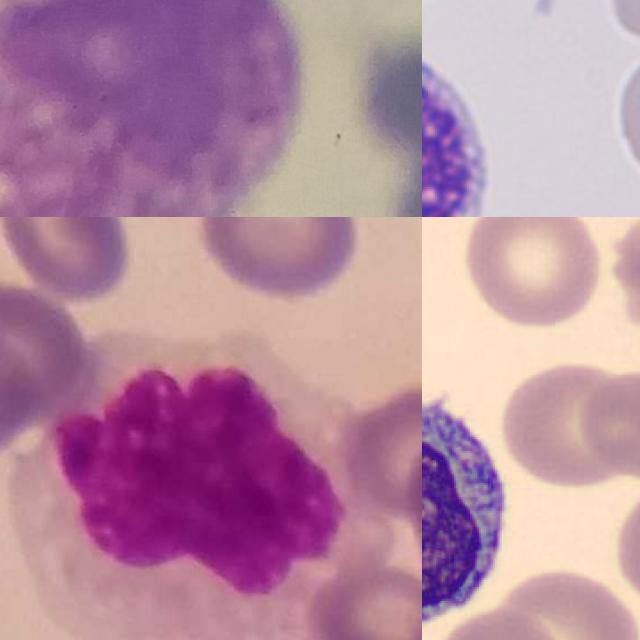Basophil: (0, 0, 301, 217)
Lymphocyte: (422, 377, 519, 639), (422, 22, 502, 217)
Monocyte: (24, 354, 385, 640)
RBC: (495, 356, 640, 492), (457, 217, 605, 331), (489, 565, 640, 640), (575, 366, 640, 481), (601, 217, 640, 363), (429, 604, 562, 640), (608, 474, 640, 608), (611, 50, 640, 194), (604, 0, 640, 54)
